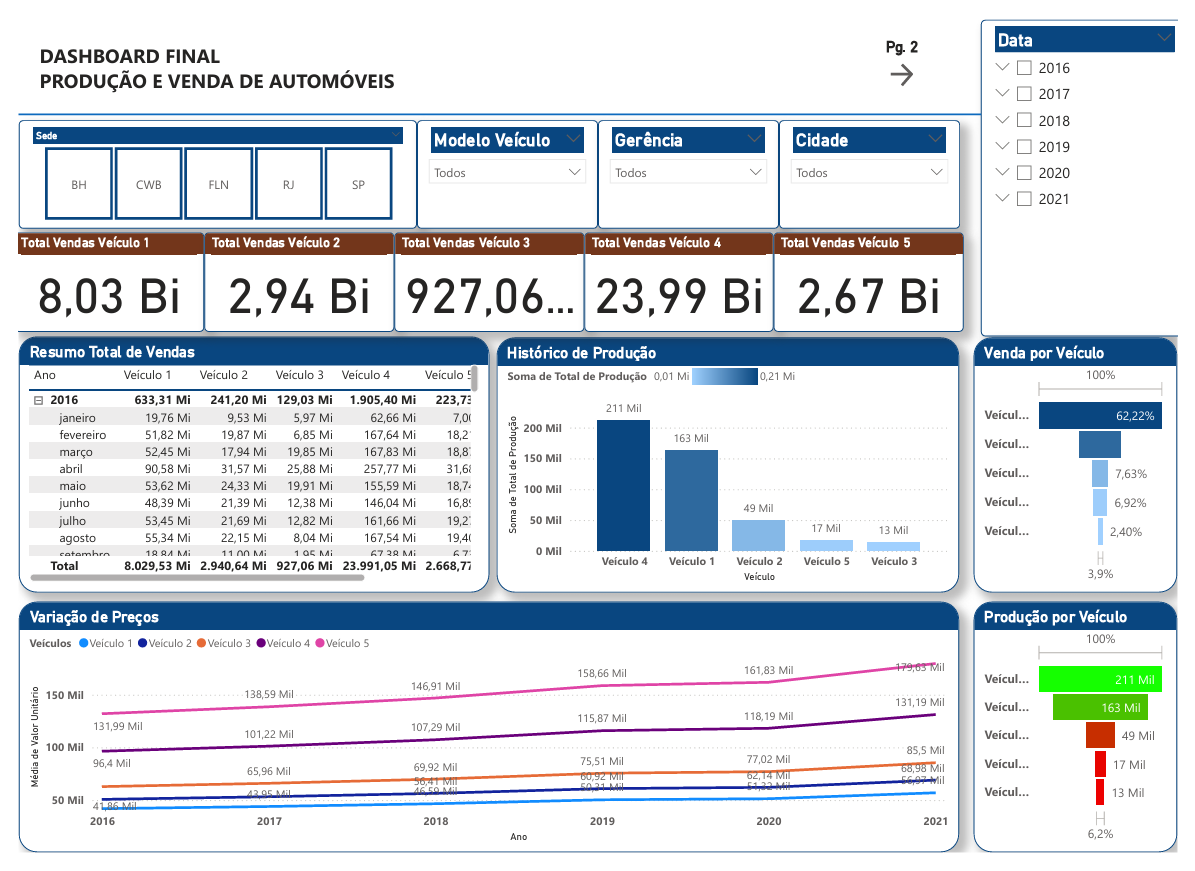

The dashboard page shown, as its layout file describes it:
{"tool":"powerbi","page":{"name":"Resumo","canvas":[1280,920],"ordinal":0},"visuals":[{"type":"slicer","fields":{"Values":["d_Local.Sede"]},"box":[0,111.2,440,120],"z":0},{"type":"slicer","fields":{"Values":["d_Veículo.Veículo"]},"box":[440,111.2,200,120],"z":1000},{"type":"slicer","fields":{"Values":["d_Calendário.Date.Variation.Hierarquia de datas.Ano","d_Calendário.Date.Variation.Hierarquia de datas.Mês"]},"box":[1062.9,0,229.6,349.8],"z":2000},{"type":"slicer","fields":{"Values":["d_Local.Gerência"]},"box":[640,111.2,200,120],"z":3000},{"type":"slicer","fields":{"Values":["d_Local.Cidade"]},"box":[840,111.2,200,120],"z":4000},{"type":"pivotTable","title":"Resumo Total de Vendas","fields":{"Values":["Sum(f_Produção.Total Venda)"],"Columns":["f_Produção.Veículos"],"Rows":["d_Calendário.Date.Variation.Hierarquia de datas.Ano","d_Calendário.Date.Variation.Hierarquia de datas.Mês"]},"box":[0,349.8,520.1,282.8],"z":5000},{"type":"clusteredColumnChart","title":"Histórico de Produção","fields":{"Y":["Sum(f_Produção.Total de Produção)"],"Category":["d_Veículo.Veículo","d_Calendário.Date.Variation.Hierarquia de datas.Ano","d_Calendário.Date.Variation.Hierarquia de datas.Mês"]},"box":[527.7,351.3,510.9,281.3],"z":6000},{"type":"lineChart","title":"Variação de Preços","fields":{"Category":["d_Calendário.Date.Variation.Hierarquia de datas.Ano","d_Calendário.Date.Variation.Hierarquia de datas.Mês"],"Y":["Avg(f_Produção.Valor Unitário)"],"Series":["f_Produção.Veículos"]},"box":[0,643.2,1038.6,276.8],"z":7000},{"type":"funnel","title":"Venda por Veículo","fields":{"Y":["Sum(f_Produção.Total Venda)"],"Category":["f_Produção.Veículos"]},"box":[1055.3,351.3,225.1,281.3],"z":8000},{"type":"funnel","title":"Produção por Veículo","fields":{"Y":["Sum(f_Produção.Total de Produção)"],"Category":["f_Produção.Veículos"]},"box":[1055.3,643.2,225.1,276.8],"z":9000},{"type":"card","title":"Total Vendas Veículo 1","fields":{"Values":["f_Produção.Total Venda Veículo 1"]},"box":[-5,235.1,210,109.5],"z":10000},{"type":"card","title":"Total Vendas Veículo 2","fields":{"Values":["f_Produção.Total Venda Veículo 2"]},"box":[204.9,235.1,209.9,109.5],"z":11000},{"type":"card","title":"Total Vendas Veículo 3","fields":{"Values":["f_Produção.Total Venda Veículo 3"]},"box":[414.7,235.1,209.9,109.5],"z":12000},{"type":"card","title":"Total Vendas Veículo 4","fields":{"Values":["f_Produção.Total Venda Veículo 4"]},"box":[624.6,235.1,209.9,109.5],"z":13000},{"type":"card","title":"Total Vendas Veículo 5","fields":{"Values":["f_Produção.Total Venda Veículo 5"]},"box":[834.4,235.1,209.9,109.5],"z":14000},{"type":"actionButton","title":"Pg. 2","box":[957.5,20,62.5,57.5],"z":15000},{"type":"shape","box":[0,97.5,1062.5,13.8],"z":16000},{"type":"textbox","box":[17.5,20,742.5,67.5],"z":17000}]}

Visuals, with their boxes in screenshot pixels (x1, y1, x2, y2), scaled from the page's 1280x920 canvas onto the 1195x871 screenshot:
slicer - d_Local.Sede: left=0, top=105, right=411, bottom=219
slicer - d_Veículo.Veículo: left=411, top=105, right=598, bottom=219
slicer - d_Calendário.Date.Variation.Hierarquia de datas.Ano x d_Calendário.Date.Variation.Hierarquia de datas.Mês: left=992, top=0, right=1194, bottom=331
slicer - d_Local.Gerência: left=598, top=105, right=784, bottom=219
slicer - d_Local.Cidade: left=784, top=105, right=971, bottom=219
"Resumo Total de Vendas" pivotTable: left=0, top=331, right=486, bottom=599
"Histórico de Produção" clusteredColumnChart: left=493, top=333, right=970, bottom=599
"Variação de Preços" lineChart: left=0, top=609, right=970, bottom=870
"Venda por Veículo" funnel: left=985, top=333, right=1194, bottom=599
"Produção por Veículo" funnel: left=985, top=609, right=1194, bottom=870
"Total Vendas Veículo 1" card: left=0, top=223, right=191, bottom=326
"Total Vendas Veículo 2" card: left=191, top=223, right=387, bottom=326
"Total Vendas Veículo 3" card: left=387, top=223, right=583, bottom=326
"Total Vendas Veículo 4" card: left=583, top=223, right=779, bottom=326
"Total Vendas Veículo 5" card: left=779, top=223, right=975, bottom=326
"Pg. 2" actionButton: left=894, top=19, right=952, bottom=73
shape: left=0, top=92, right=992, bottom=105
textbox: left=16, top=19, right=710, bottom=83
